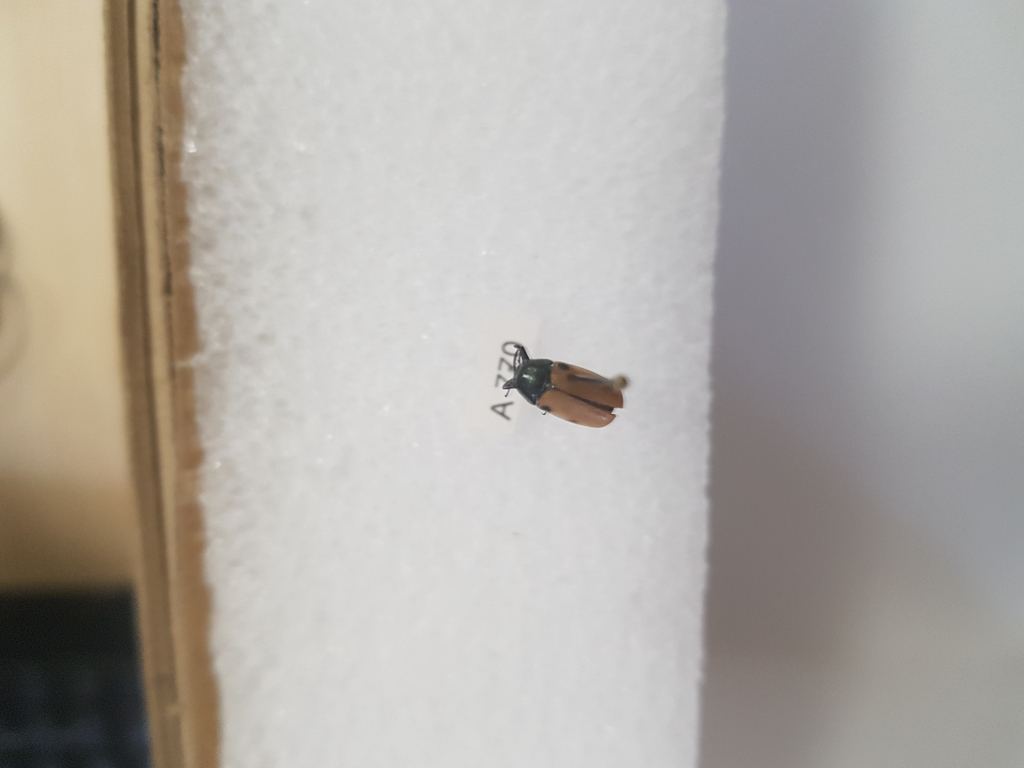Labidostomis_propinqua: (509, 343, 630, 437)
